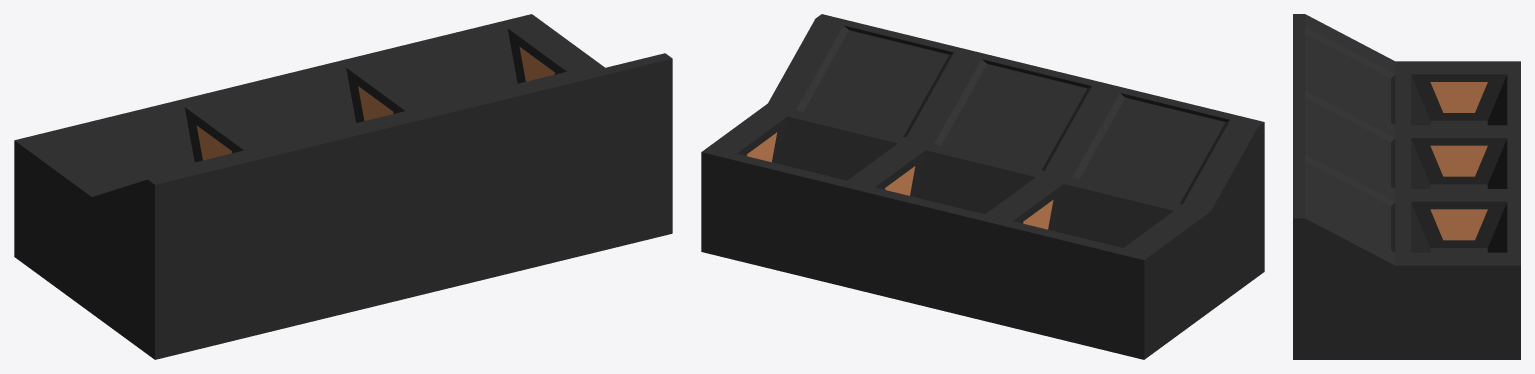
Rendered from batteryholder.fbx.
3 renders of one model, left to right at view 1: azimuth 30°, elevation 25°; view 2: azimuth 150°, elevation 25°; view 3: azimuth 270°, elevation 25°, orthographic. The views are drawn at different scales.
Parts seen in each view (by area): view 1: Cube; view 2: Cube; view 3: Cube.
Boxes of the visible parts, x1,y1,x2,y2 form: Cube: [14, 14, 672, 359]; Cube: [701, 14, 1264, 359]; Cube: [1293, 14, 1520, 359].
Bounding box in the file's own units: 1110 × 359 × 523.
